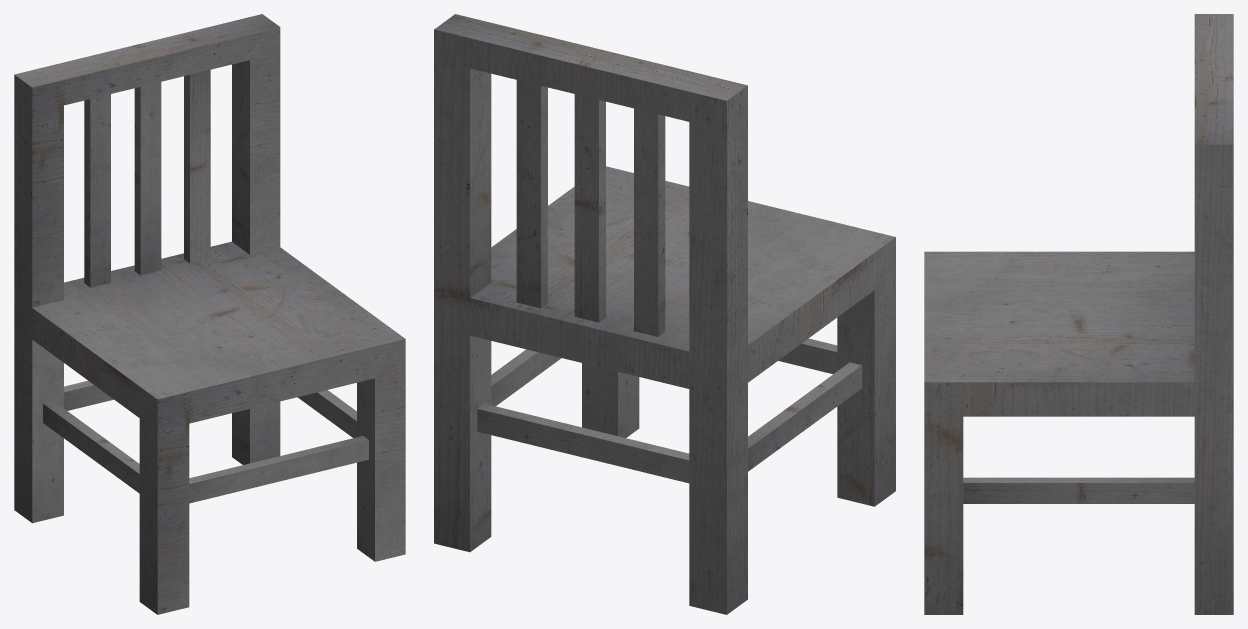
The model's file is chair.glb.
3 views of the same model, side by side, from view 1: azimuth 30°, elevation 25°; view 2: azimuth 150°, elevation 25°; view 3: azimuth 270°, elevation 25° (orthographic). The views are drawn at different scales.
Parts seen in each view (by area): view 1: chair; view 2: chair; view 3: chair.
Boxes of the visible parts, x1=… form: chair: x1=14, y1=14, x2=405, y2=614; chair: x1=434, y1=14, x2=895, y2=614; chair: x1=924, y1=14, x2=1233, y2=614.
Size of the model in its own units: 0.5123 by 0.8595 by 0.5123.
Materials: 1 (1 with a texture image).
